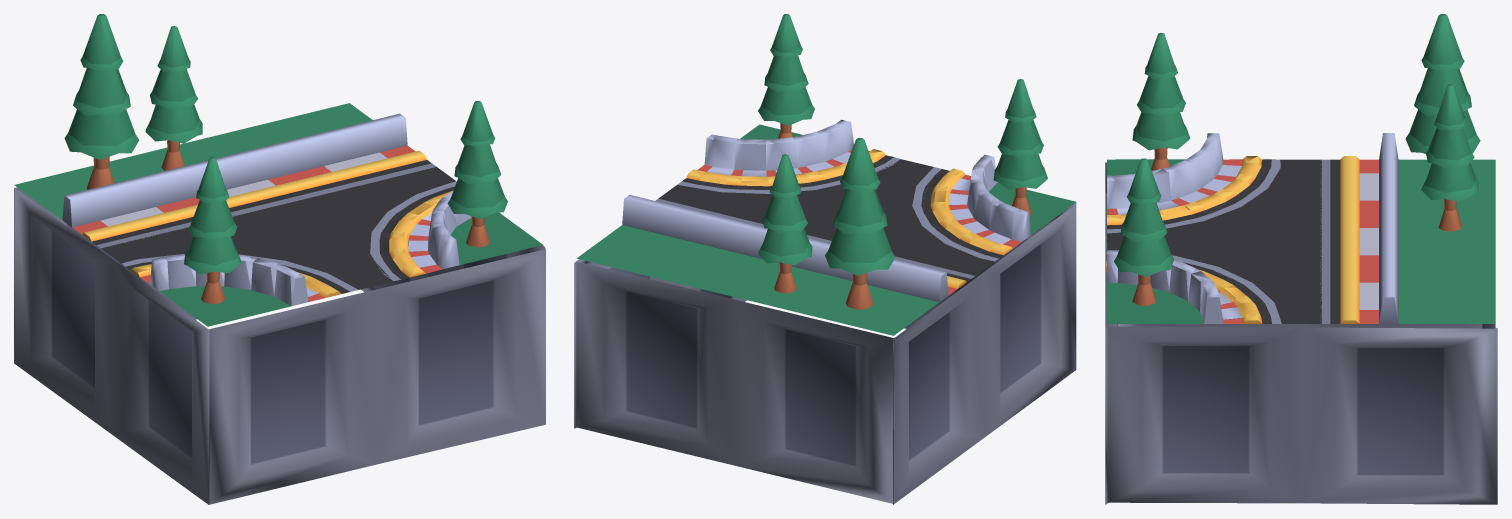
The model's file is elev-thin-3-way.glb.
The picture shows the model from 3 angles, left to right: view 1: azimuth 30°, elevation 25°; view 2: azimuth 150°, elevation 25°; view 3: azimuth 270°, elevation 25°; orthographic projection. The views are drawn at different scales.
Parts seen in each view (by area): view 1: track-corner.008; view 2: track-corner.008; view 3: track-corner.008.
Boxes of the visible parts, x1=… form: track-corner.008: x1=14, y1=14, x2=545, y2=504; track-corner.008: x1=574, y1=14, x2=1076, y2=504; track-corner.008: x1=1105, y1=14, x2=1497, y2=504.
Bounding box in the file's own units: 10.07 × 10.05 × 10.1.
8 materials, 8 textured.
